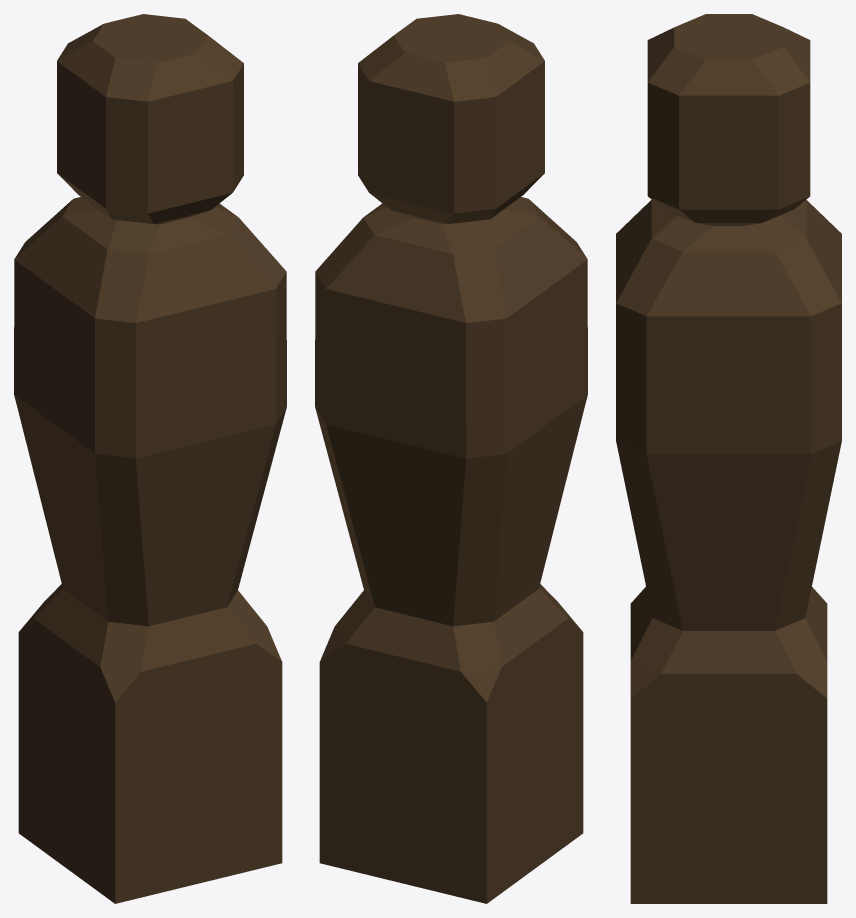
Rendered from Balcony_Post.glb.
The picture shows the model from 3 angles, left to right: view 1: azimuth 30°, elevation 25°; view 2: azimuth 150°, elevation 25°; view 3: azimuth 270°, elevation 25°; orthographic projection.
Visible parts, largest first — view 1: Balcony_Post.001; view 2: Balcony_Post.001; view 3: Balcony_Post.001.
Boxes of the visible parts, bbox=[...] form: Balcony_Post.001: bbox=[14, 14, 286, 903]; Balcony_Post.001: bbox=[315, 14, 587, 903]; Balcony_Post.001: bbox=[616, 14, 841, 903].
Bounding box in the file's own units: 0.3683 × 1.49 × 0.3683.
Materials: 1 (1 with a texture image).
